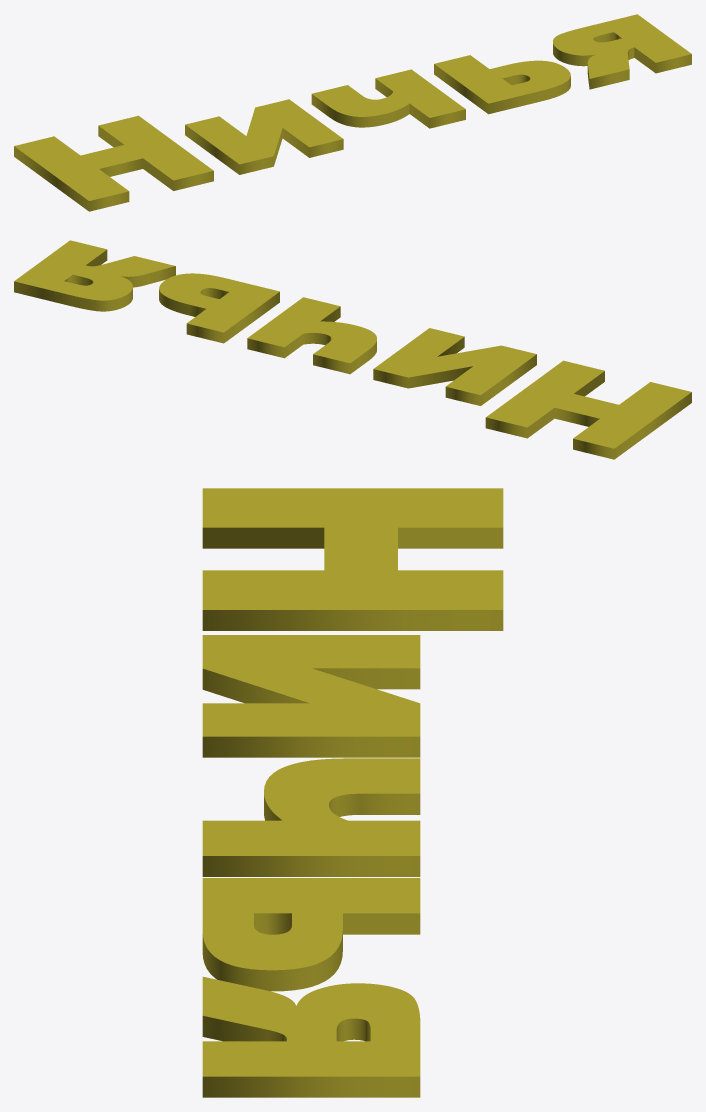
The model's file is Draw.fbx.
The picture shows the model from 3 angles, top to bottom: view 1: azimuth 30°, elevation 25°; view 2: azimuth 150°, elevation 25°; view 3: azimuth 270°, elevation 25°; orthographic projection. The views are drawn at different scales.
Parts seen in each view (by area): view 1: Text.002; view 2: Text.002; view 3: Text.002.
Boxes of the visible parts, x1=… form: Text.002: x1=14, y1=14, x2=691, y2=211; Text.002: x1=14, y1=240, x2=691, y2=459; Text.002: x1=202, y1=488, x2=503, y2=1097.
Size of the model in its own units: 238 by 4 by 51.49.
